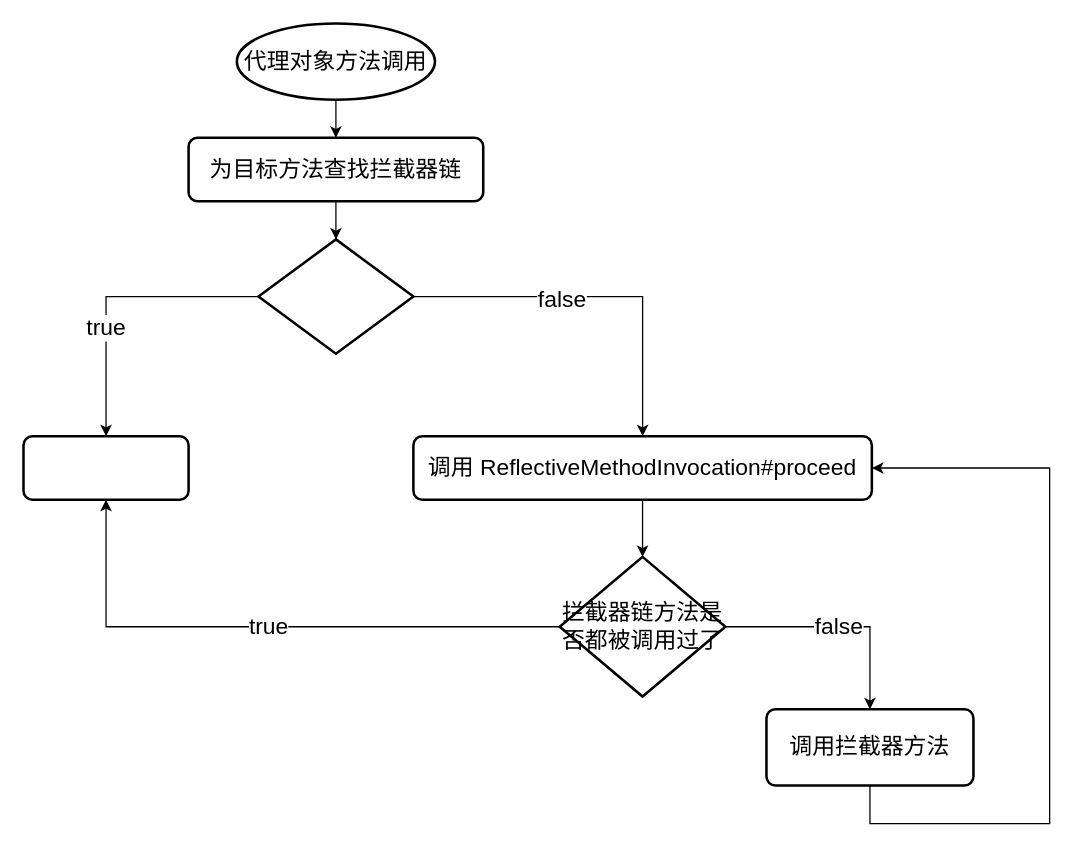
This 1082x856 diagram has some shape labels left out. Each missing label, with the centre of its shape:
拦截器链是否为空: [335,295]
调用目标方法: [105,467]
